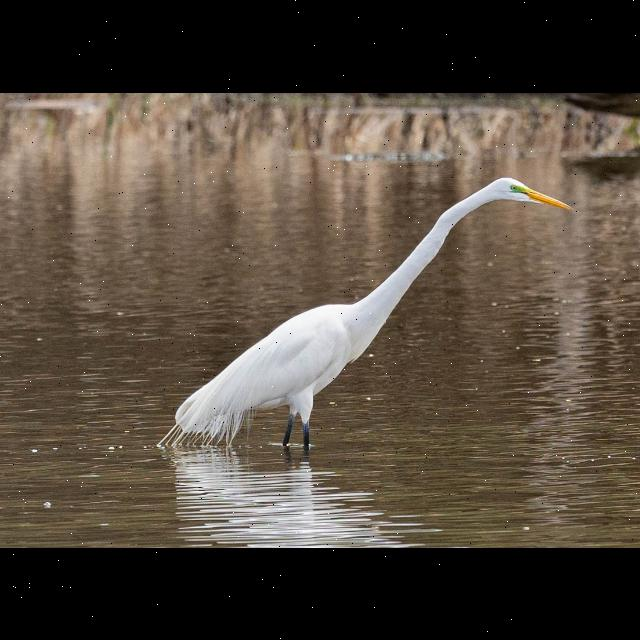egret: (150, 166, 578, 464)
